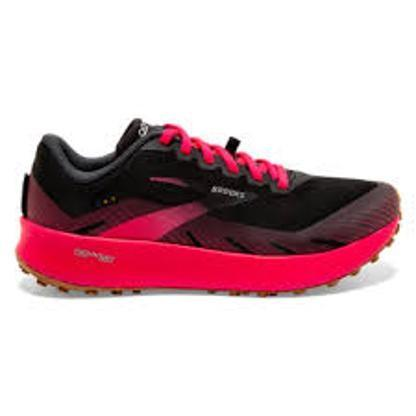not trash: (15, 113, 407, 304)
